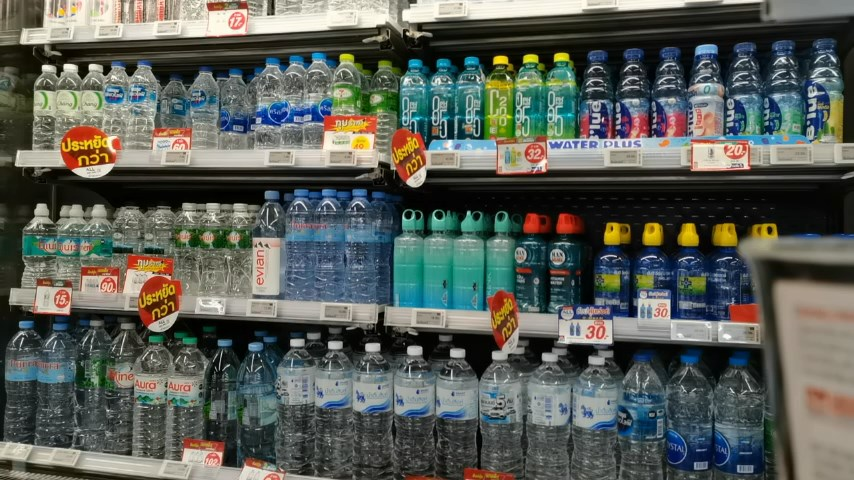1-1: (79, 318, 133, 452)
